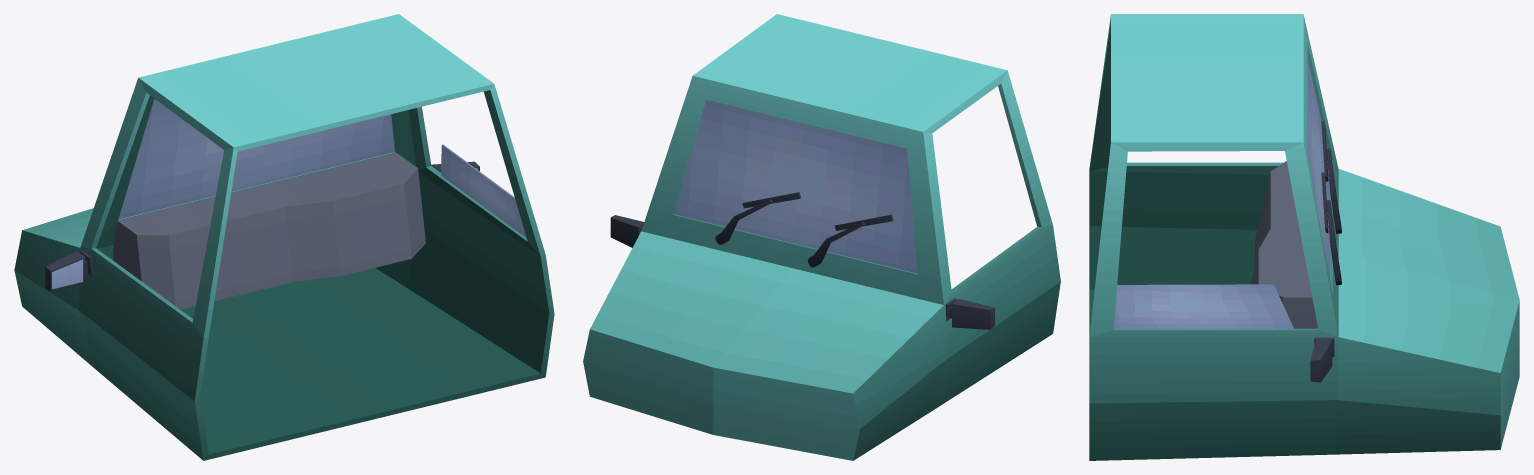
Rendered from Car.fbx.
The picture shows the model from 3 angles, left to right: view 1: azimuth 30°, elevation 25°; view 2: azimuth 150°, elevation 25°; view 3: azimuth 270°, elevation 25°; orthographic projection. The views are drawn at different scales.
Parts seen in each view (by area): view 1: Plane.001; view 2: Plane.001; view 3: Plane.001.
Part boxes in pixels (bbox=[...]): Plane.001: bbox=[14, 14, 554, 460]; Plane.001: bbox=[583, 14, 1060, 460]; Plane.001: bbox=[1089, 14, 1519, 460].
Bounding box in the file's own units: 251 × 165 × 216.
